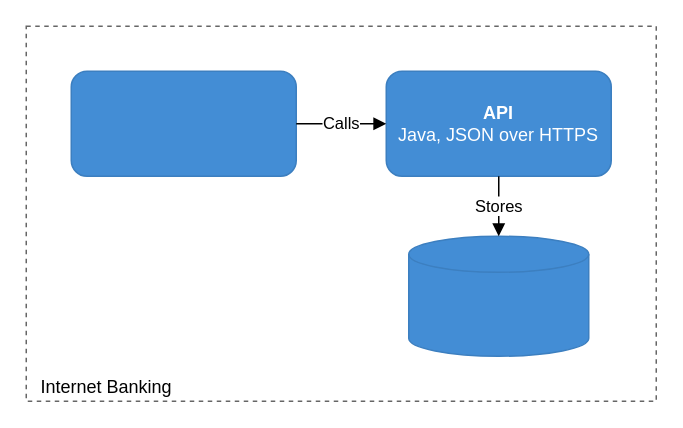
Image size: 683x428. Some labels were removed from this diagram. Here are the shapes that lost their labels. From the top down, the box of each, then its label:
(70, 70, 296, 176): Web Application Java
(407, 235, 589, 356): Database Relational
